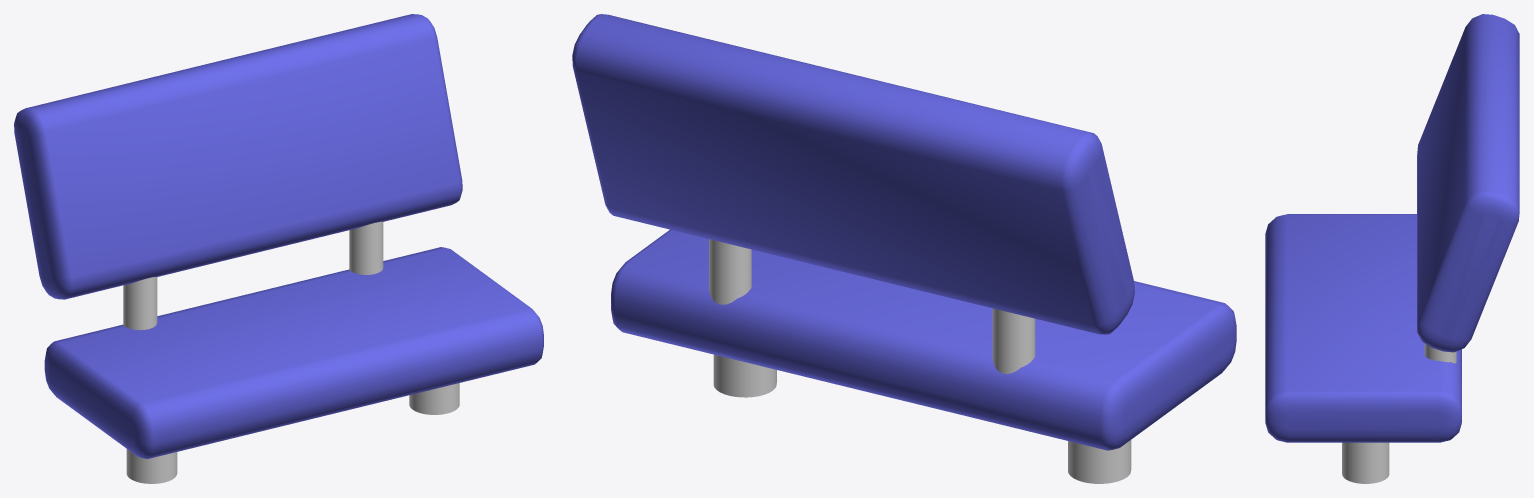
File: Bench.fbx
3 views of the same model, side by side, from view 1: azimuth 30°, elevation 25°; view 2: azimuth 150°, elevation 25°; view 3: azimuth 270°, elevation 25° (orthographic). The views are drawn at different scales.
Visible parts, largest first — view 1: Bench; view 2: Bench; view 3: Bench.
Boxes of the visible parts, x1,y1,x2,y2 form: Bench: (14,14,543,483); Bench: (572,14,1236,483); Bench: (1265,14,1519,483).
Bounding box in the file's own units: 7.17 × 5.55 × 4.17.
